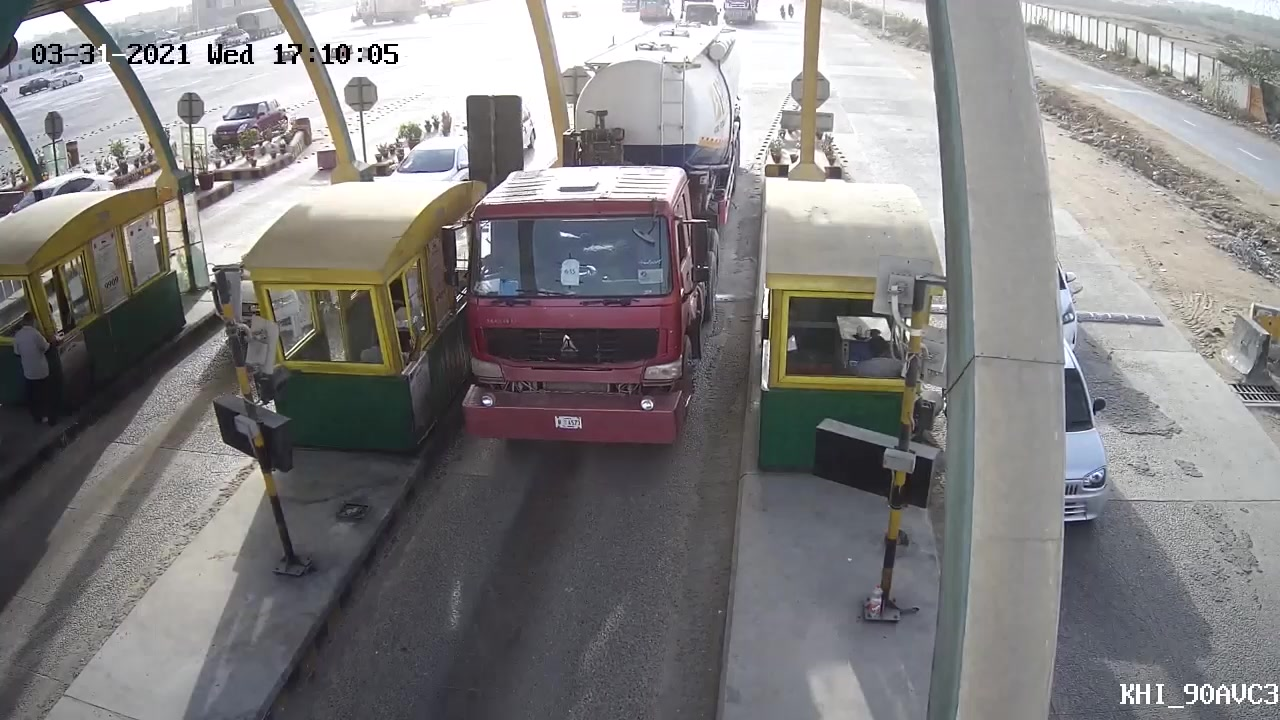F6: (446, 28, 756, 472)
